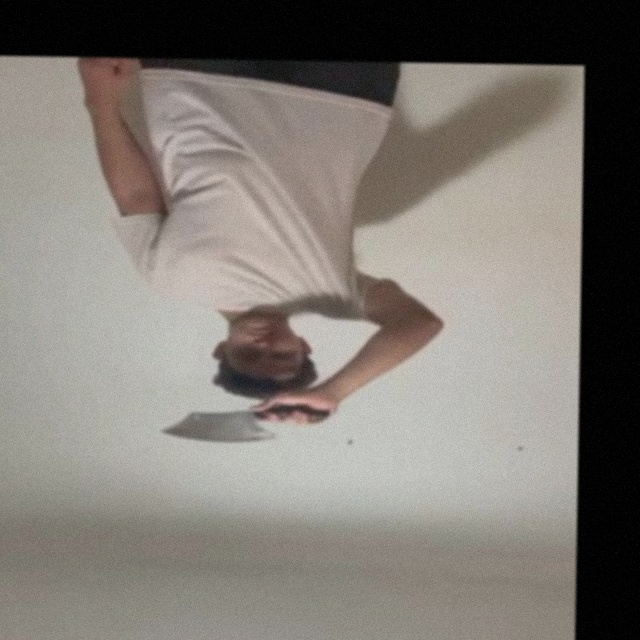Sharp-Object: (160, 412, 275, 444)
